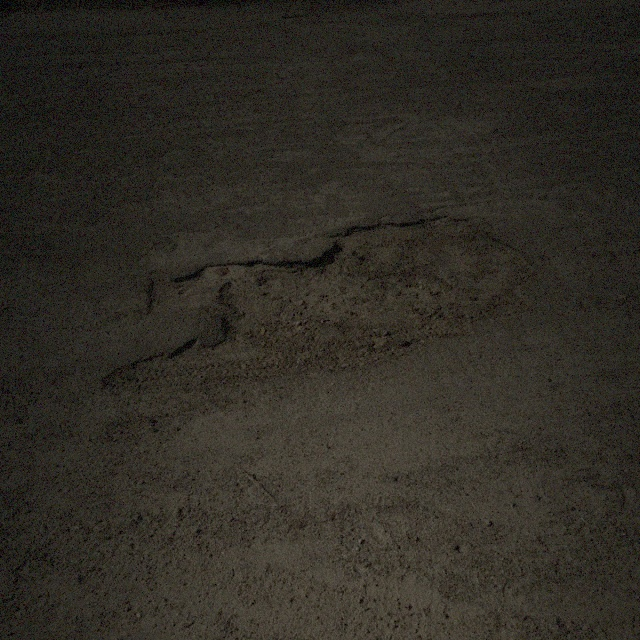pothole: (93, 209, 540, 398)
